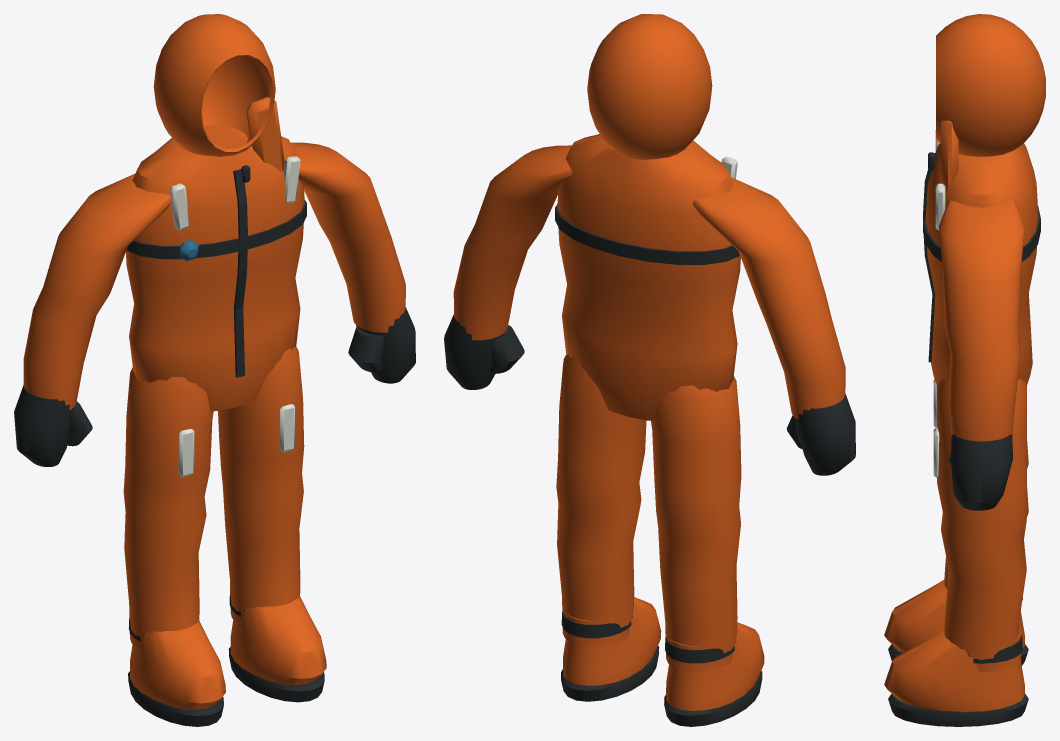
The model's file is A-NEW-20261026-IMMERSION-SURVIVAL-SUIT-001_LOD2_R2.glb.
The picture shows the model from 3 angles, left to right: view 1: azimuth 30°, elevation 25°; view 2: azimuth 150°, elevation 25°; view 3: azimuth 270°, elevation 25°; orthographic projection. The views are drawn at different scales.
Visible parts, largest first — view 1: orange torso garment, integrated orange leg, integrated orange leg.001, long orange sleeve, empty hollow integrated hood, long orange sleeve.001, integrated boot foot.001, integrated boot foot, black mitten body, black chest strap, black mitten body.001, raised right neck flap (+8 smaller); view 2: orange torso garment, integrated orange leg, integrated orange leg.001, long orange sleeve, empty hollow integrated hood, long orange sleeve.001, integrated boot foot, integrated boot foot.001, black mitten body, black chest strap, black mitten body.001, dark closed sole (+4 smaller); view 3: long orange sleeve.001, integrated orange leg.001, empty hollow integrated hood, orange torso garment, integrated boot foot.001, black mitten body.001, integrated boot foot, dark closed sole.001, raised right neck flap, black chest strap, dark ankle band.001, shoulder pale patch.001 (+1 smaller).
Boxes of the visible parts, bbox=[...] form: orange torso garment: bbox=[125, 125, 304, 411]; integrated orange leg: bbox=[123, 367, 213, 647]; integrated orange leg.001: bbox=[218, 346, 304, 623]; long orange sleeve: bbox=[23, 174, 171, 409]; empty hollow integrated hood: bbox=[153, 14, 275, 156]; long orange sleeve.001: bbox=[291, 142, 405, 332]; integrated boot foot.001: bbox=[230, 596, 326, 685]; integrated boot foot: bbox=[130, 621, 225, 709]; black mitten body: bbox=[14, 385, 73, 466]; black chest strap: bbox=[126, 200, 306, 259]; black mitten body.001: bbox=[356, 307, 415, 383]; raised right neck flap: bbox=[246, 96, 284, 172]; orange torso garment: bbox=[557, 134, 740, 420]; integrated orange leg: bbox=[651, 376, 741, 671]; integrated orange leg.001: bbox=[556, 354, 646, 646]; long orange sleeve: bbox=[693, 177, 845, 419]; empty hollow integrated hood: bbox=[587, 14, 712, 159]; long orange sleeve.001: bbox=[453, 145, 572, 340]; integrated boot foot: bbox=[666, 622, 764, 710]; integrated boot foot.001: bbox=[563, 597, 661, 685]; black mitten body: bbox=[794, 393, 855, 475]; black chest strap: bbox=[555, 204, 739, 264]; black mitten body.001: bbox=[444, 314, 504, 389]; dark closed sole: bbox=[664, 671, 762, 726]; long orange sleeve.001: bbox=[939, 200, 1024, 441]; integrated orange leg.001: bbox=[937, 378, 1028, 671]; empty hollow integrated hood: bbox=[936, 14, 1045, 156]; orange torso garment: bbox=[925, 143, 1038, 386]; integrated boot foot.001: bbox=[884, 629, 1024, 712]; black mitten body.001: bbox=[950, 434, 1012, 510]; integrated boot foot: bbox=[884, 580, 1024, 652]; dark closed sole.001: bbox=[888, 693, 1028, 726]; raised right neck flap: bbox=[941, 120, 958, 191]; black chest strap: bbox=[923, 206, 1040, 261]; dark ankle band.001: bbox=[967, 635, 1022, 663]; shoulder pale patch.001: bbox=[935, 183, 945, 230].
Size of the model in its own units: 1.17 by 1.88 by 0.4136.
